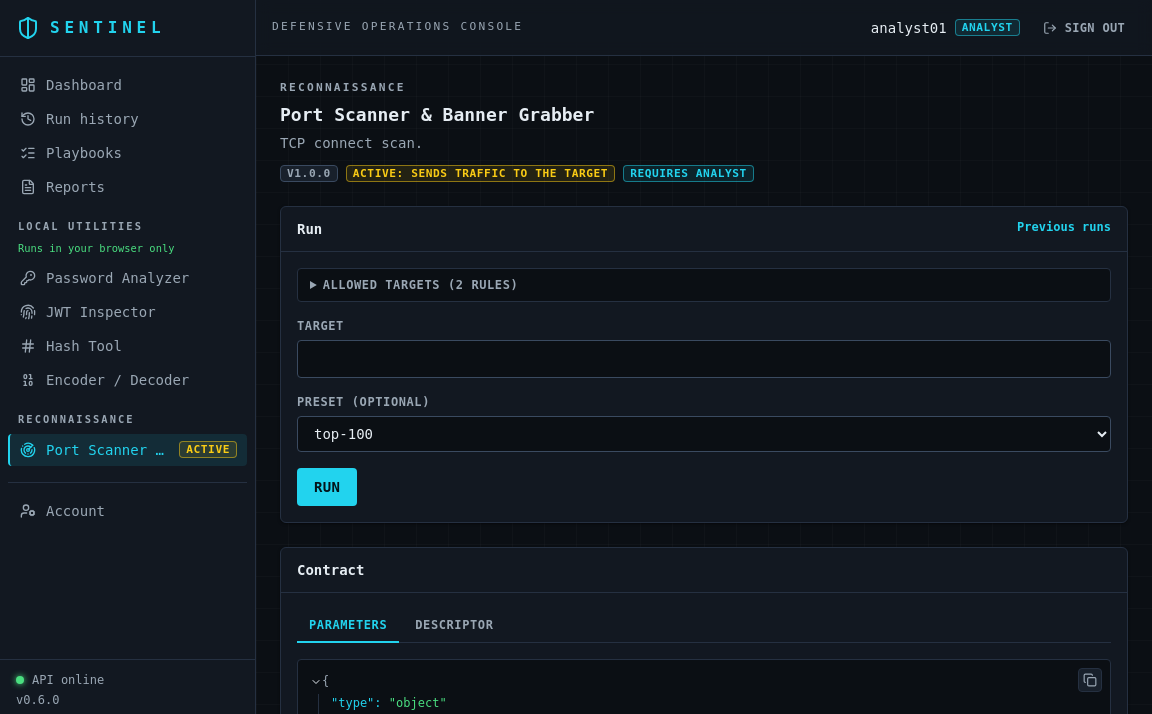
authorised-use gate on active tools › shows the allowed targets and never-scanned note
This screenshot has width=1152, height=714.
Click the heading "Allowed targets (2 rules)".
click(420, 285)  # box [323,278,518,292]
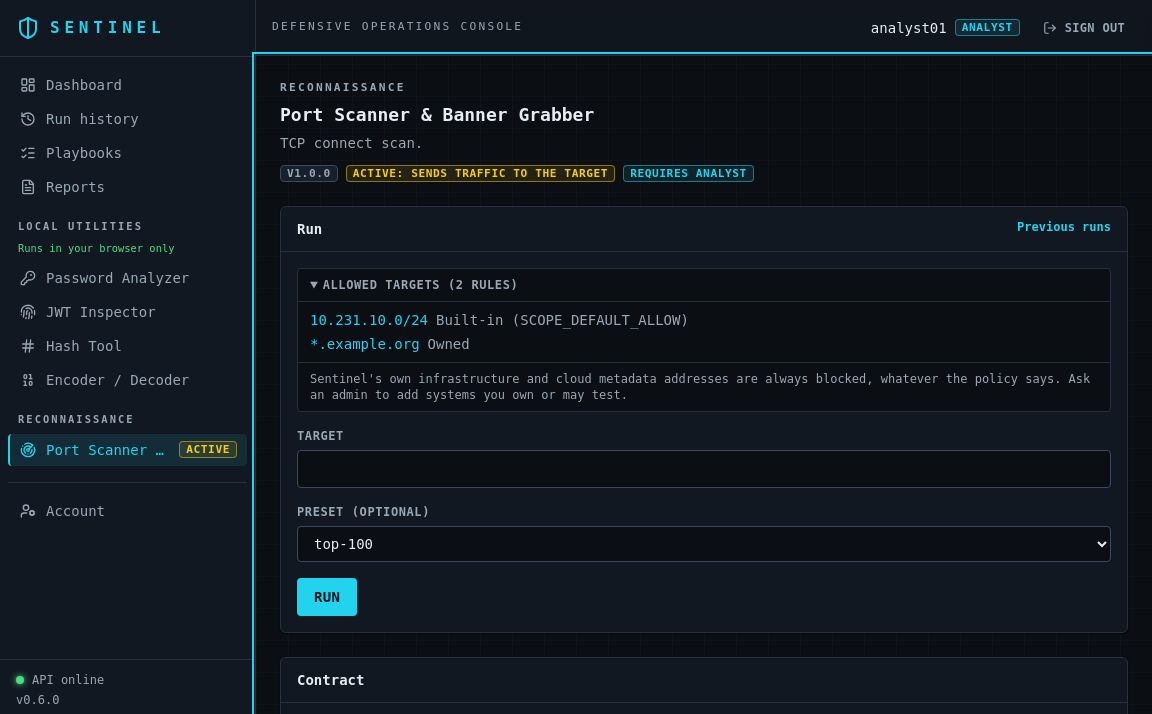
Now the text "10.231.10.0/24" is shown, box [310,310,428,330]
Now the text "*.example.org" is shown, box [310,334,420,354]
Now the text "always blocked" is shown, box [310,372,1090,402]
